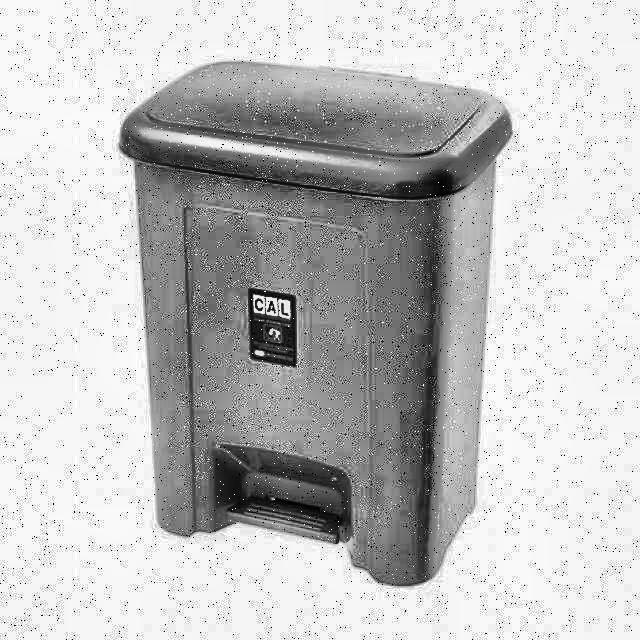Dustbin: (106, 47, 522, 624)
